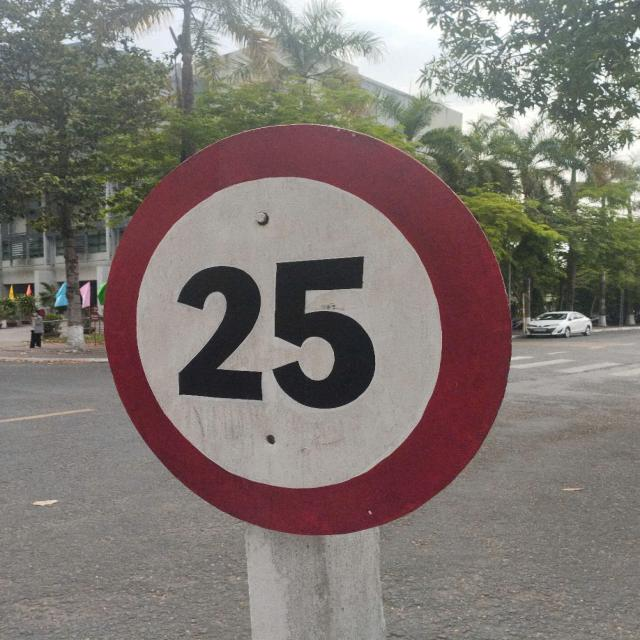Tre_Em: (101, 124, 517, 535)
